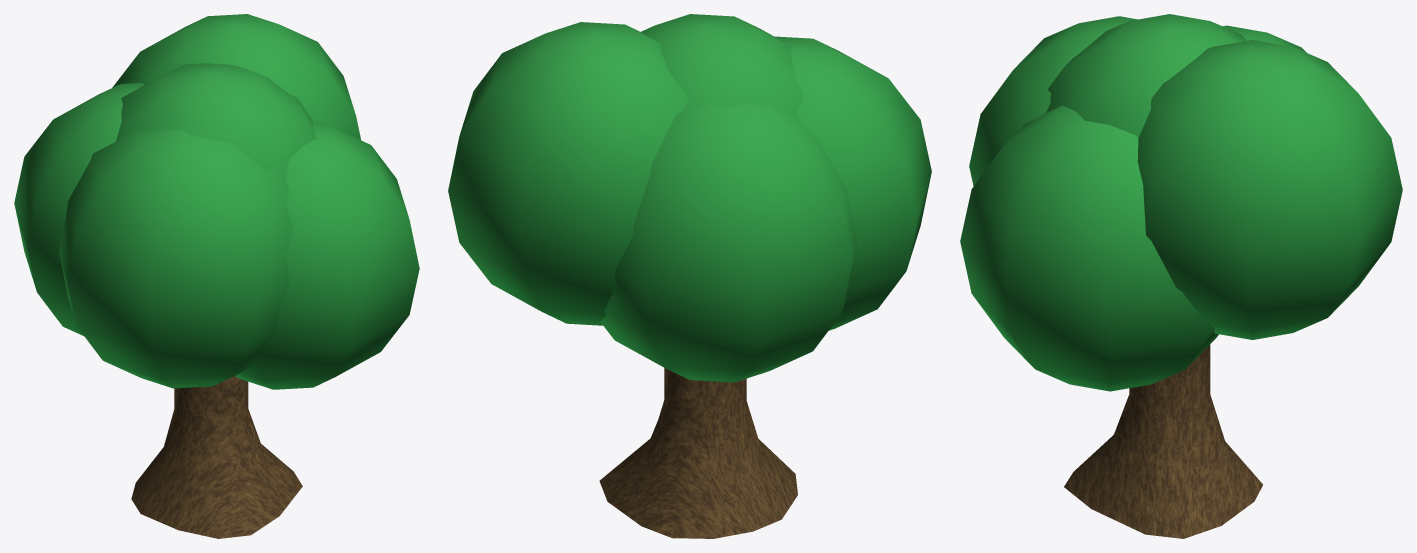
File: Tree.fbx
The picture shows the model from 3 angles, left to right: view 1: azimuth 30°, elevation 25°; view 2: azimuth 150°, elevation 25°; view 3: azimuth 270°, elevation 25°; orthographic projection. The views are drawn at different scales.
Visible parts, largest first — view 1: Tree; view 2: Tree; view 3: Tree.
Boxes of the visible parts, left/top/right/bottom form: Tree: left=14, top=14, right=419, bottom=538; Tree: left=448, top=14, right=931, bottom=538; Tree: left=960, top=14, right=1402, bottom=538.
Bounding box in the file's own units: 616 × 731 × 624.
